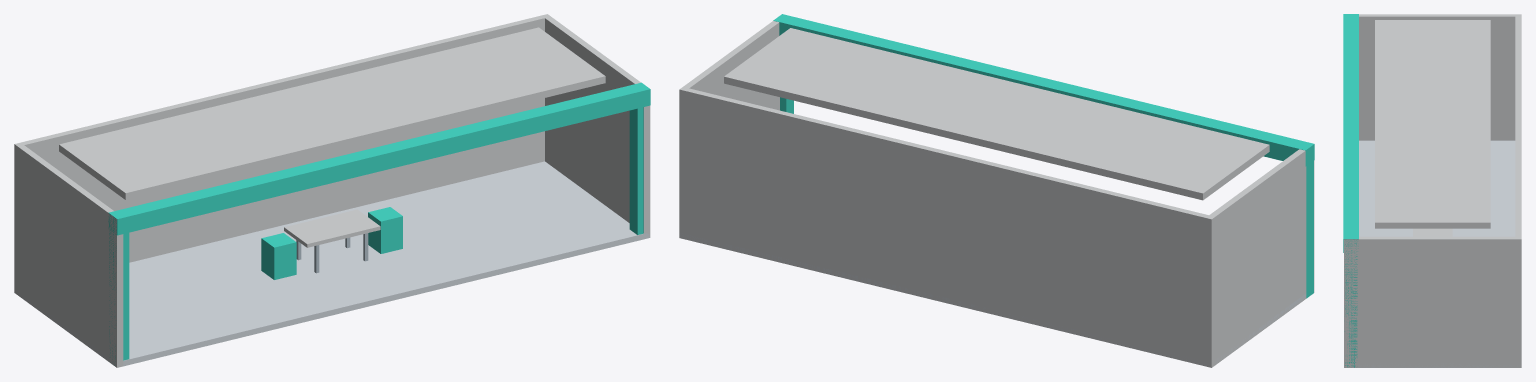
3 renders of one model, left to right at view 1: azimuth 30°, elevation 25°; view 2: azimuth 150°, elevation 25°; view 3: azimuth 270°, elevation 25°, orthographic. The views are drawn at different scales.
Parts seen in each view (by area): view 1: Exhibition Booth Concept; view 2: Exhibition Booth Concept; view 3: Exhibition Booth Concept.
Boxes of the visible parts, box(x1,y1,x2,y2) form: Exhibition Booth Concept: box(14, 14, 650, 367); Exhibition Booth Concept: box(679, 14, 1314, 367); Exhibition Booth Concept: box(1343, 14, 1521, 367).
Size of the model in its own units: 12 by 3.34 by 4.02.
